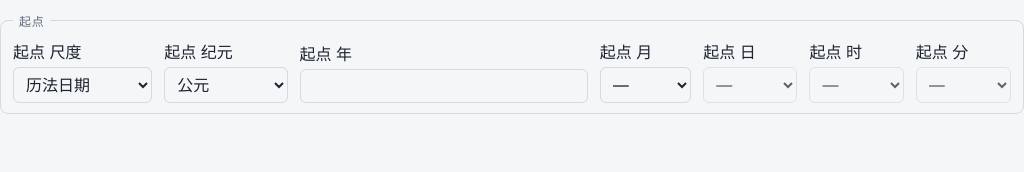
TimeInput (structured) › civil: 公元前 maps to BCE astronomical year
Select "公元前" in the dropdown labelled "起点 纪元" at (226, 85), box [164,67,288,103]
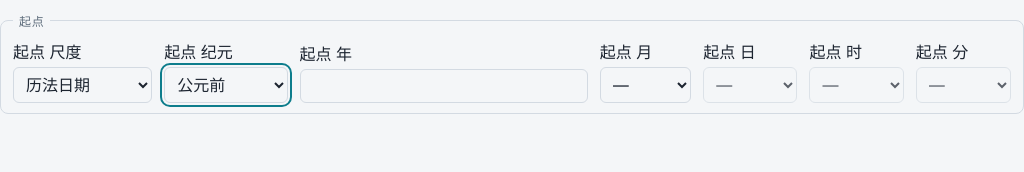
Type "3000" into the number field labelled "起点 年" at (444, 86), box [300,69,588,103]
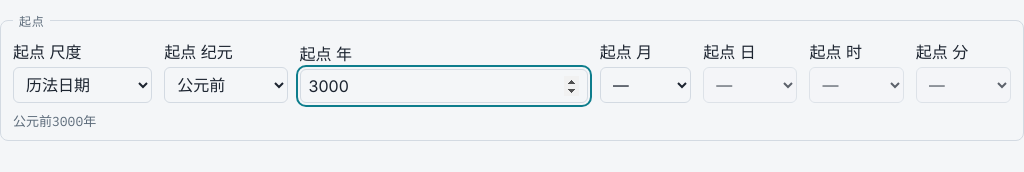
Result: the text "公元前3000年" is shown at [13,113,96,130]
